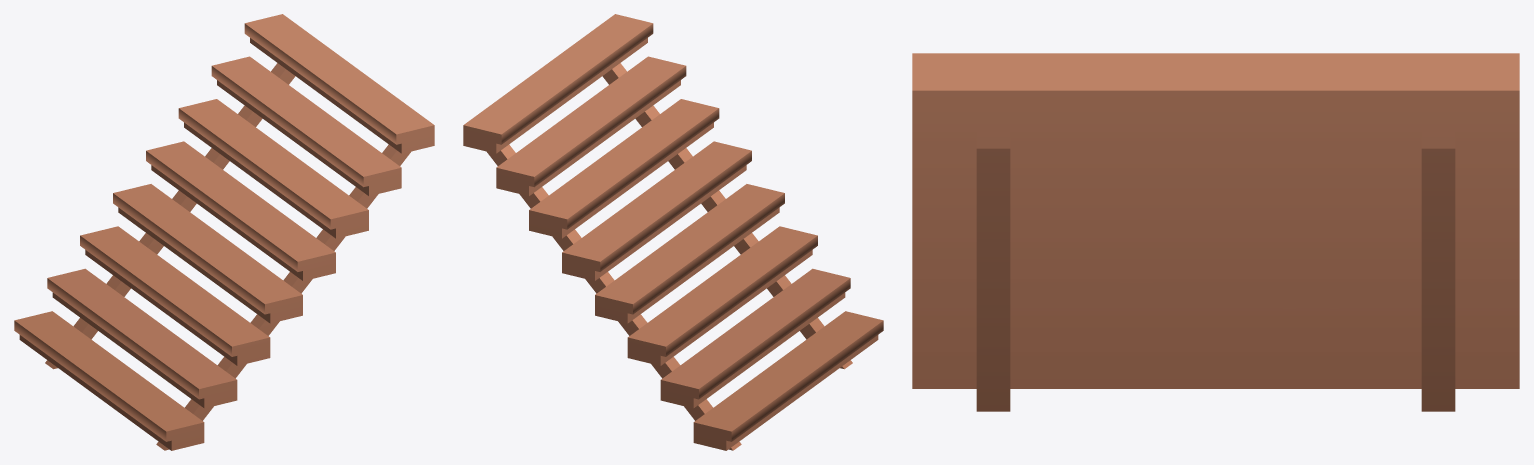
Rendered from stairs_wide_wood.glb.
3 views of the same model, side by side, from view 1: azimuth 30°, elevation 25°; view 2: azimuth 150°, elevation 25°; view 3: azimuth 270°, elevation 25° (orthographic). The views are drawn at different scales.
Visible parts, largest first — view 1: stairs-wide-wood; view 2: stairs-wide-wood; view 3: stairs-wide-wood.
Boxes of the visible parts, x1=… form: stairs-wide-wood: x1=14, y1=14, x2=434, y2=450; stairs-wide-wood: x1=463, y1=14, x2=883, y2=450; stairs-wide-wood: x1=912, y1=53, x2=1519, y2=411.
Bounding box in the file's own units: 1.02 × 1 × 1.
1 material, 1 textured.
